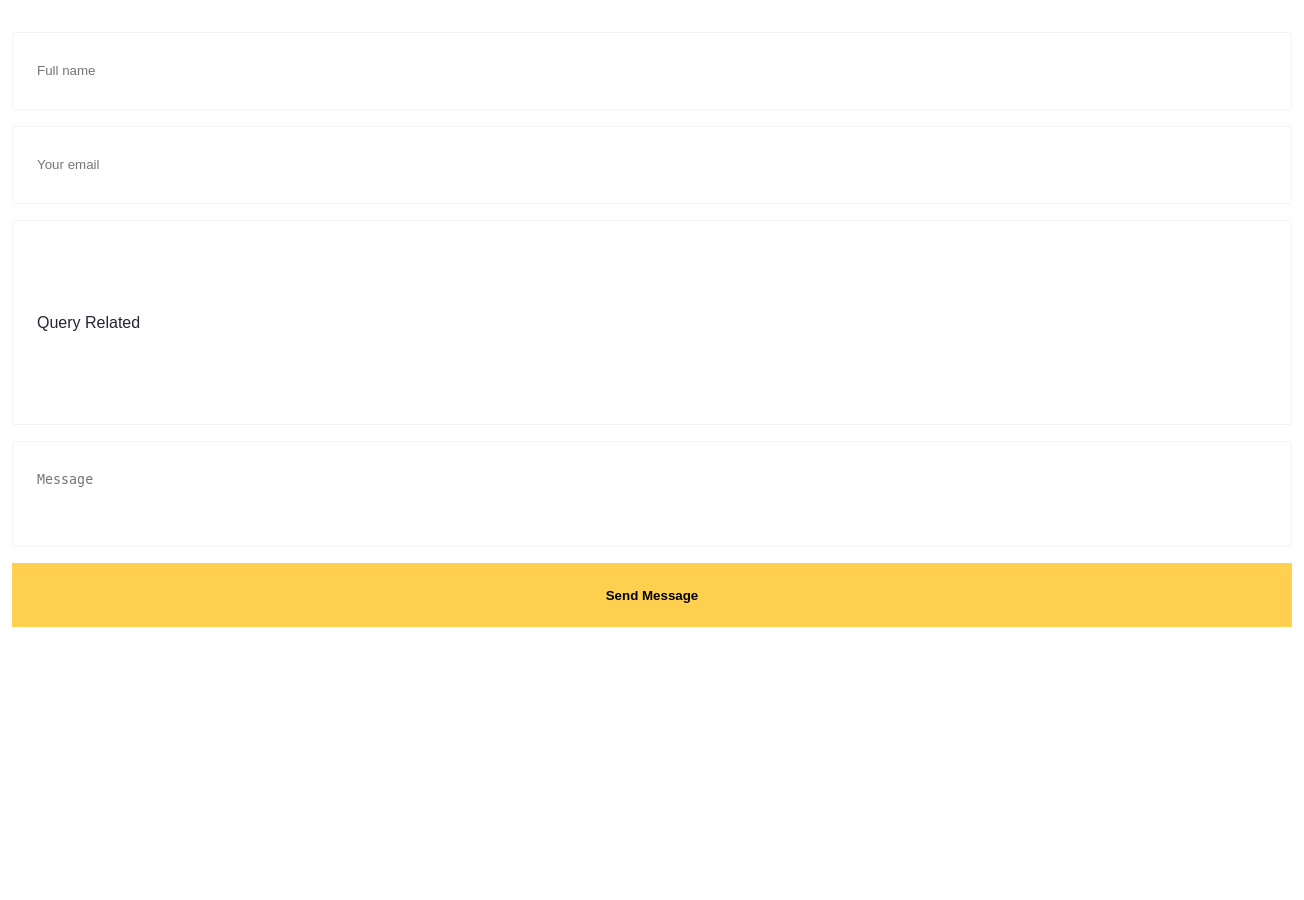
Test: ContactForm › should show required error
Click the button with test id "contanc-form-btn" at (652, 595), box [12,563,1292,627]
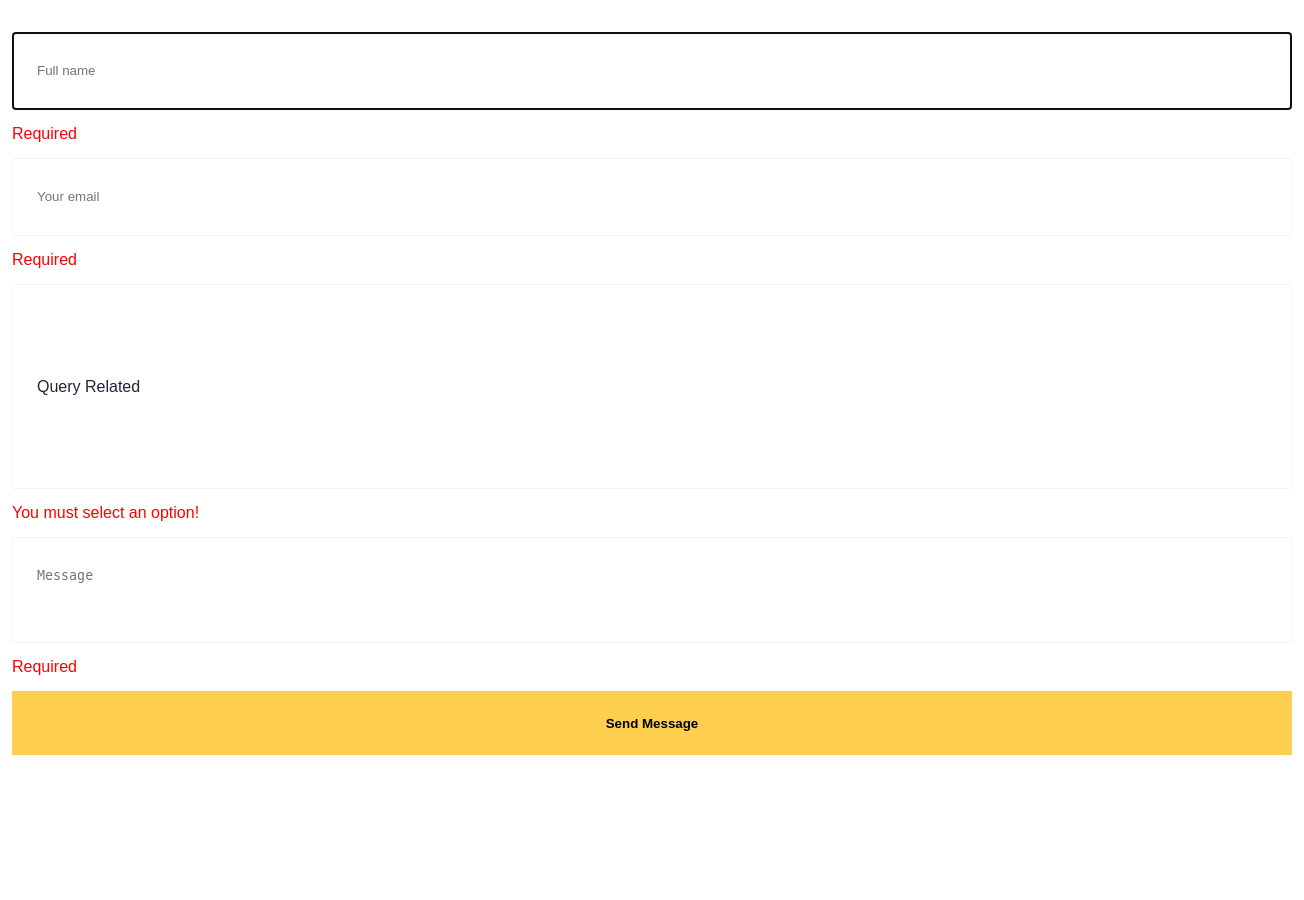
Expected: the text "Required" is shown 3 times, [12,125,77,142]; [12,251,77,268]; [12,658,77,675]
Expected: the text "You must select an option!" is shown, [12,504,199,521]
